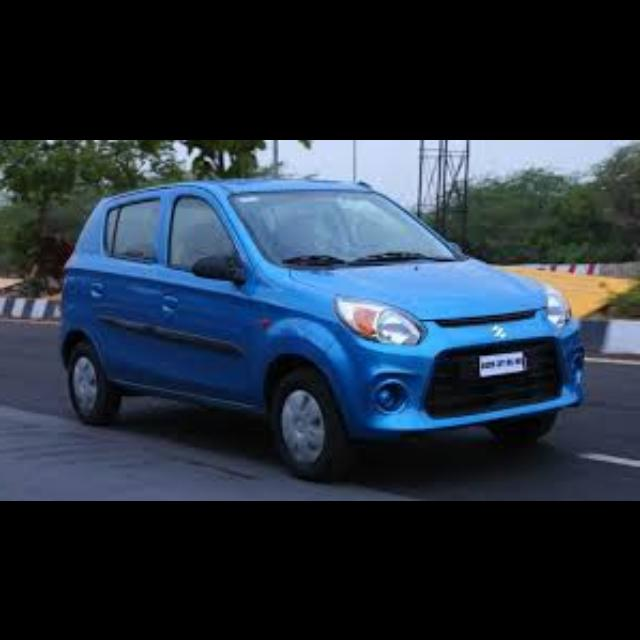number-plate: (480, 349, 529, 377)
vehicles: (51, 171, 603, 486)
